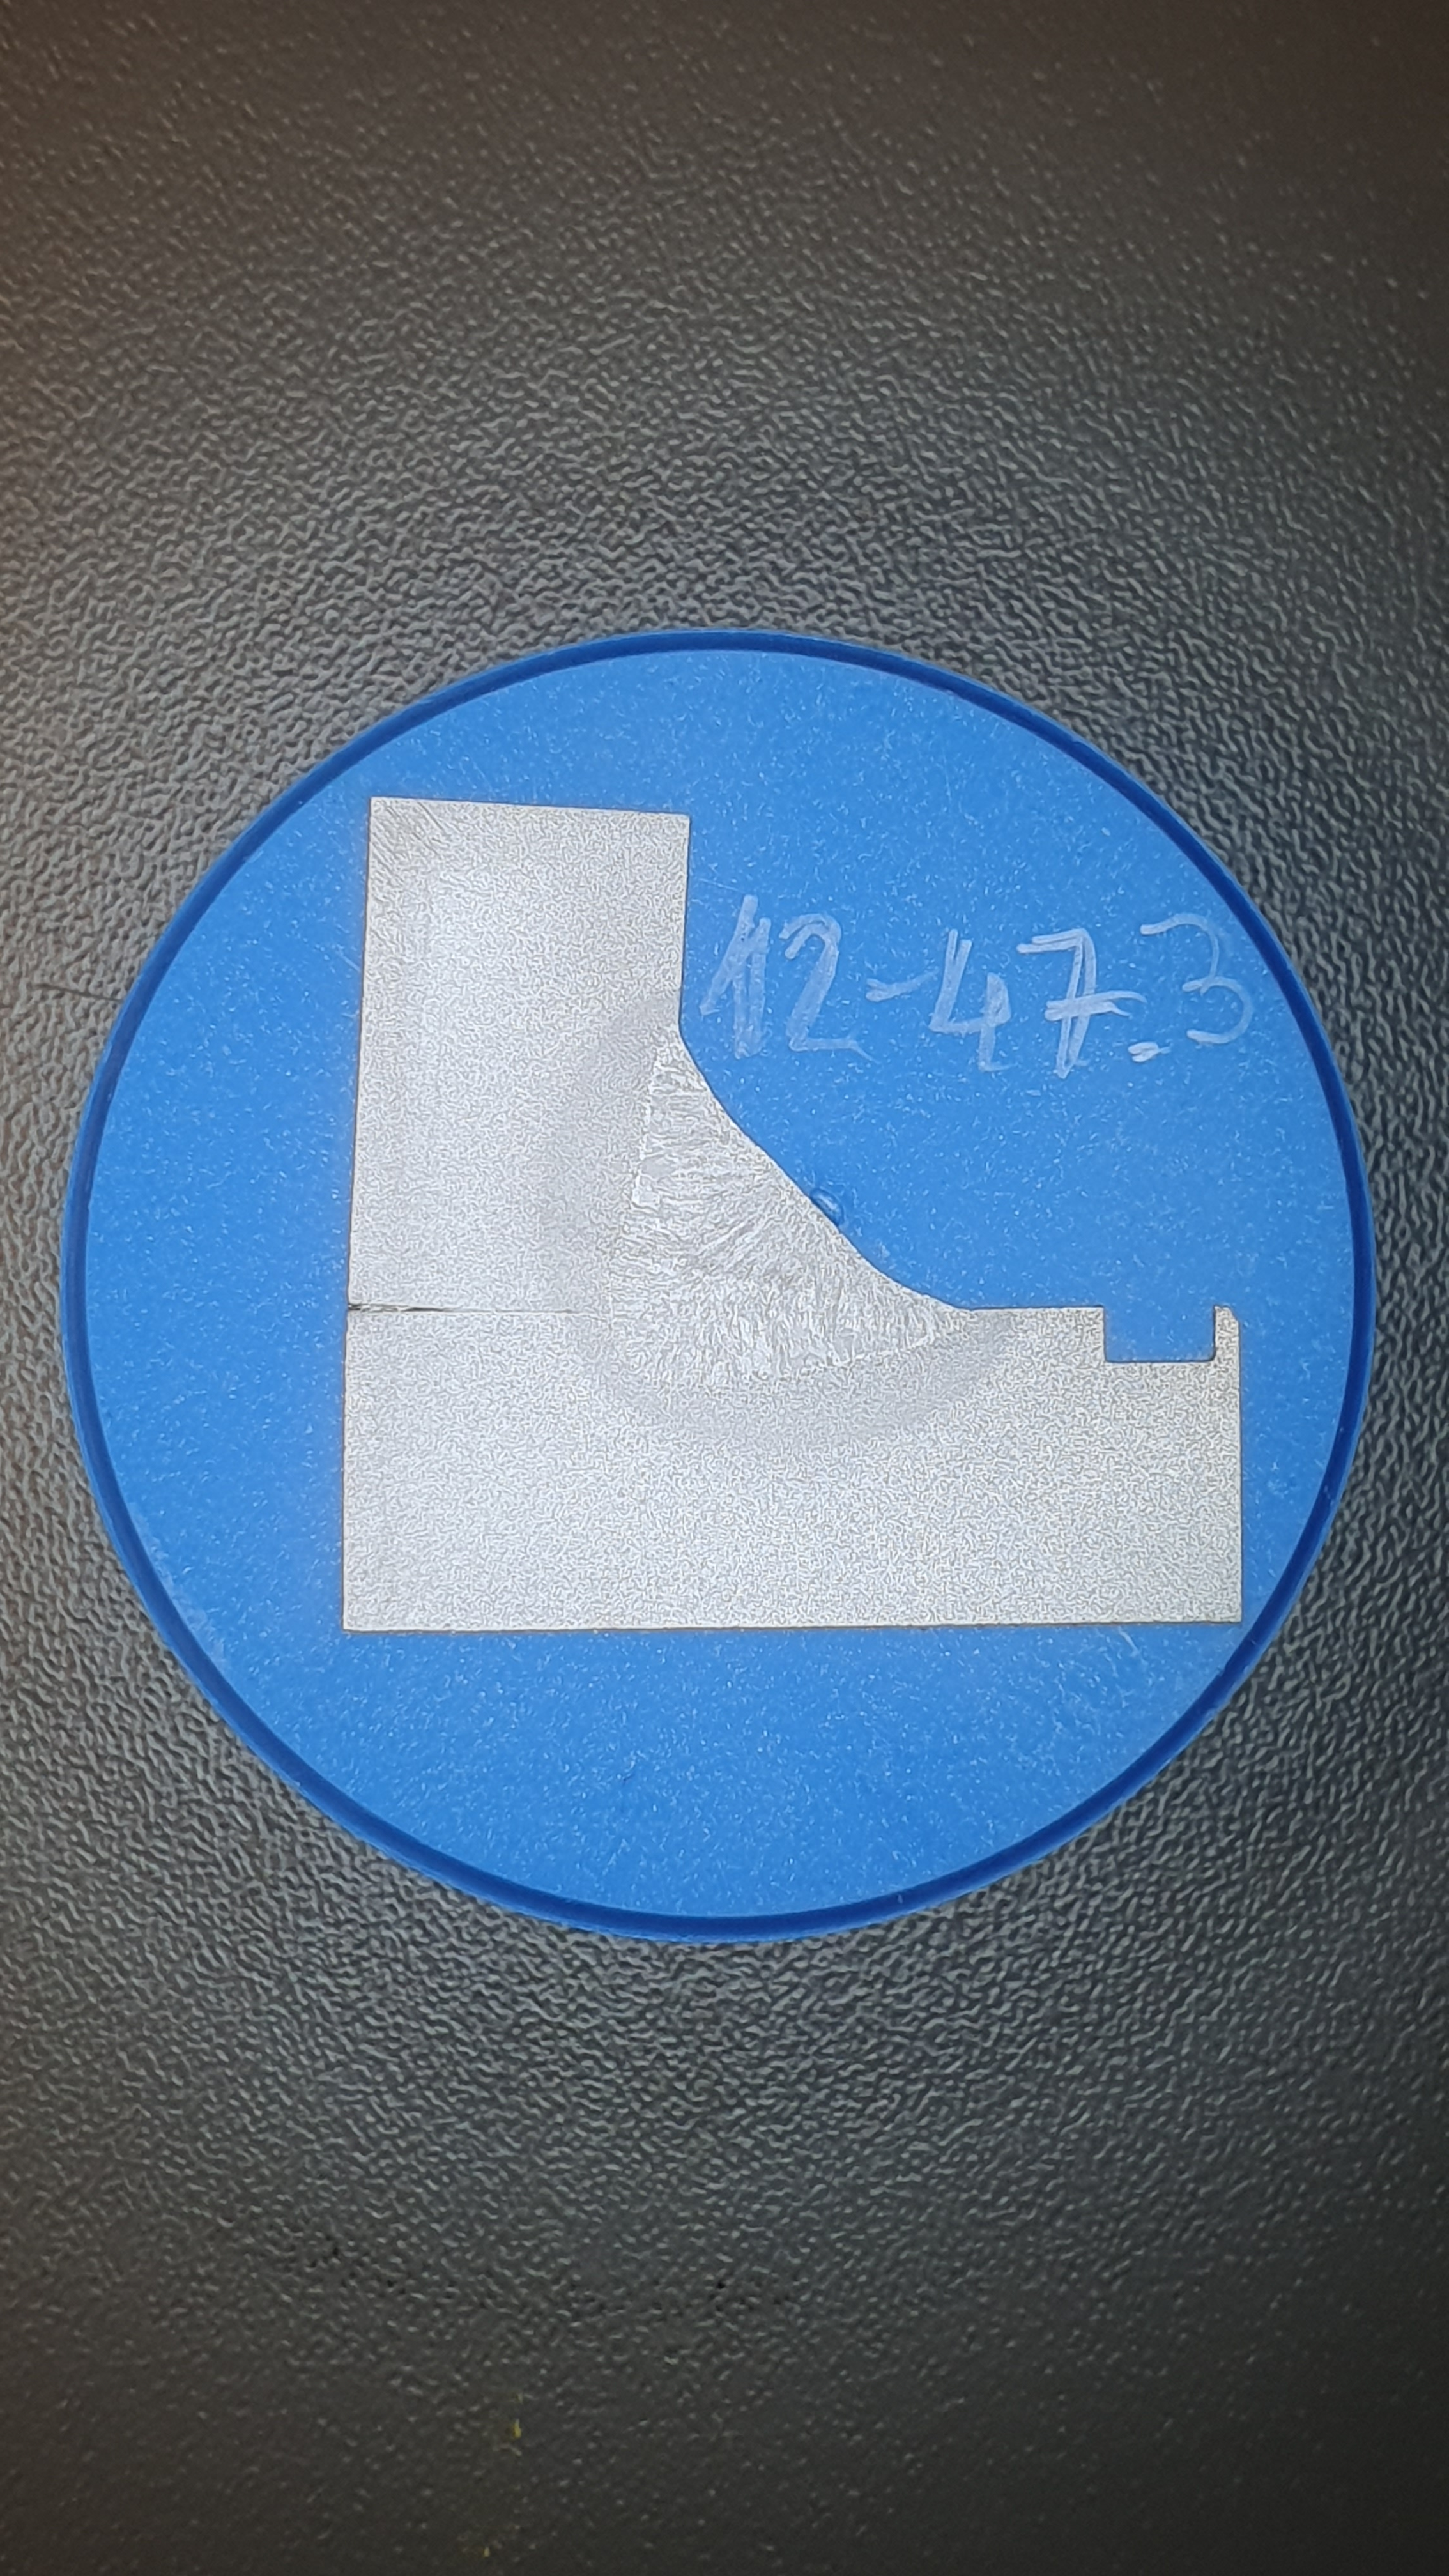Fusion: (609, 1020, 979, 1391)
Hintergrund: (82, 648, 1350, 1918)
Metall: (342, 795, 1243, 1632)
Nebenbereich: (540, 985, 1016, 1452)
